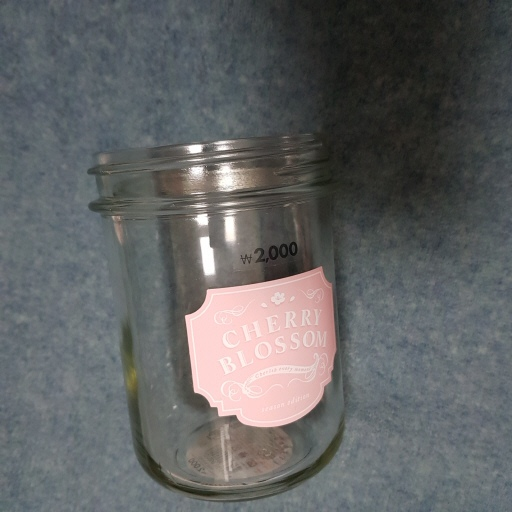Glass_5: (89, 134, 349, 500)
